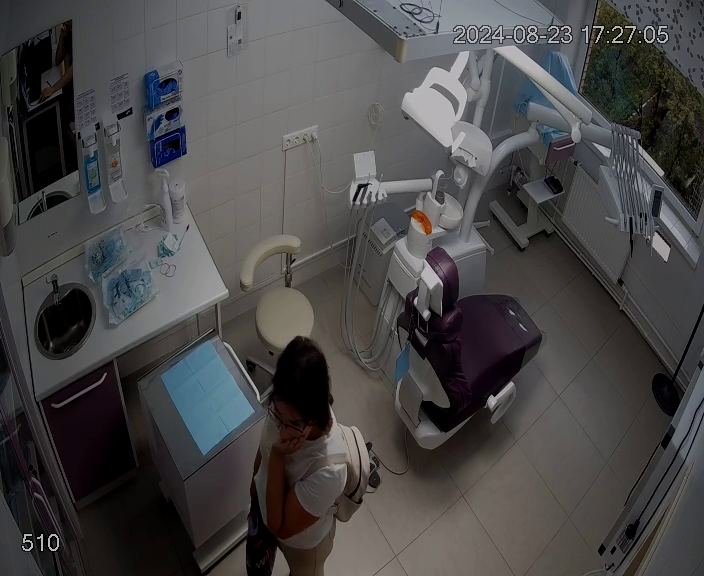Empty: (371, 249, 544, 451)
